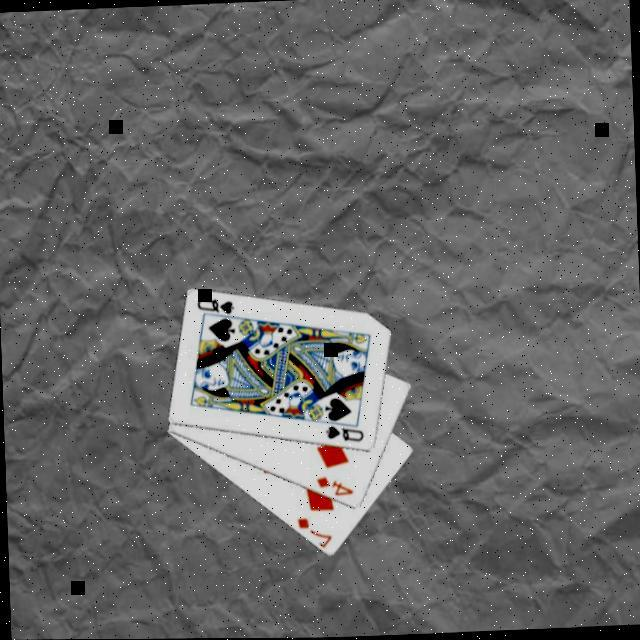4D: (314, 474, 358, 501)
7D: (294, 514, 338, 552)
QS: (324, 422, 368, 447), (196, 295, 238, 319)
